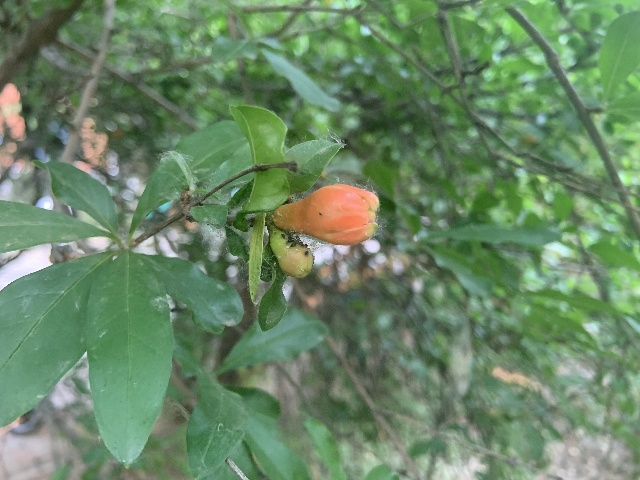bud: (273, 183, 378, 245), (269, 231, 314, 280)
